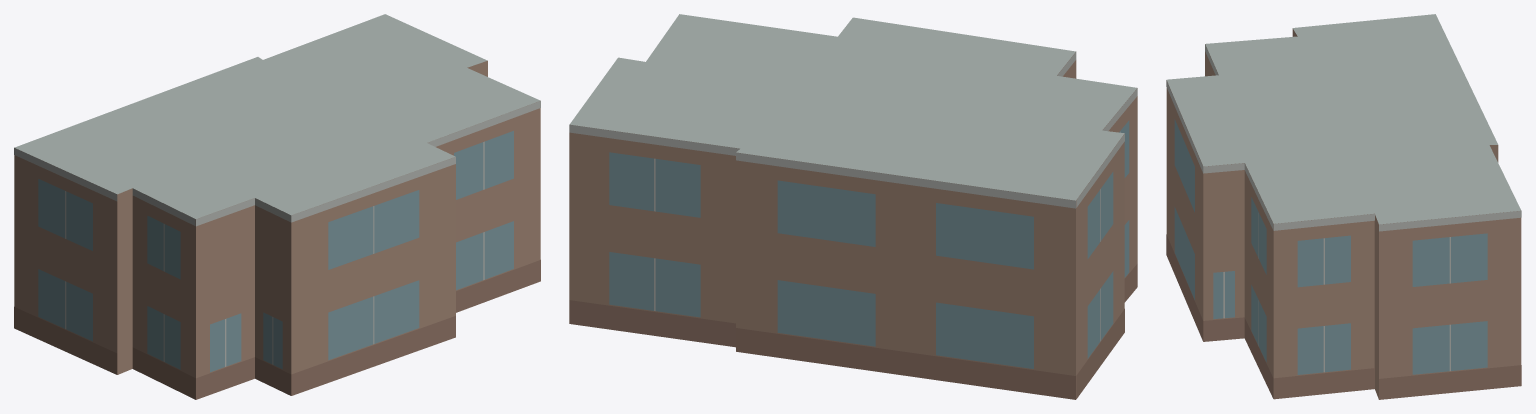
File: survey-upis-32711079.glb
3 renders of one model, left to right at view 1: azimuth 30°, elevation 25°; view 2: azimuth 150°, elevation 25°; view 3: azimuth 270°, elevation 25°, orthographic. The views are drawn at different scales.
Parts seen in each view (by area): view 1: survey-upis-32711079.tmp; view 2: survey-upis-32711079.tmp; view 3: survey-upis-32711079.tmp.
Boxes of the visible parts, x1,y1,x2,y2 form: survey-upis-32711079.tmp: [14, 14, 540, 399]; survey-upis-32711079.tmp: [569, 14, 1137, 399]; survey-upis-32711079.tmp: [1166, 14, 1521, 399].
Size of the model in its own units: 15.71 by 6.1 by 11.2.
